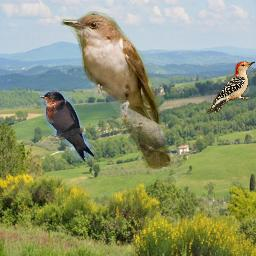Cuckoo: (60, 11, 172, 172)
Swallow: (40, 91, 94, 161)
Woodpecker: (205, 61, 255, 115)
